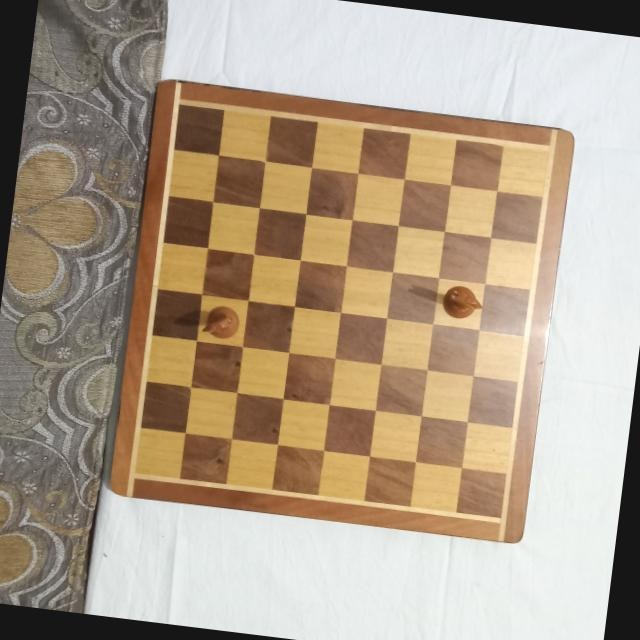white-knight: (438, 282, 486, 321), (200, 303, 242, 343)
